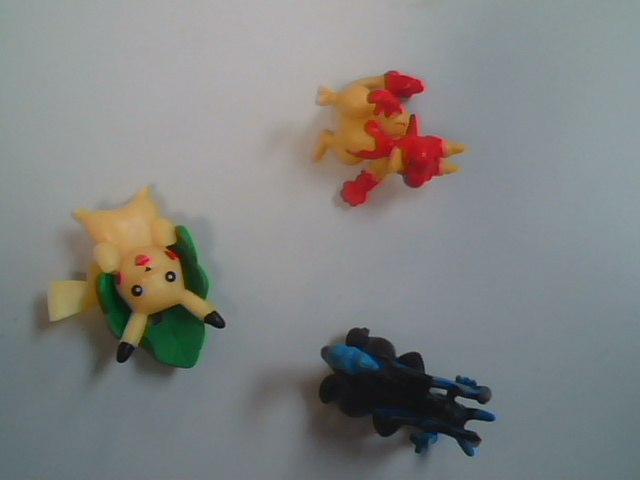charizard: (311, 264, 527, 480)
magmar: (261, 30, 483, 241)
pikachu: (15, 189, 247, 420)
